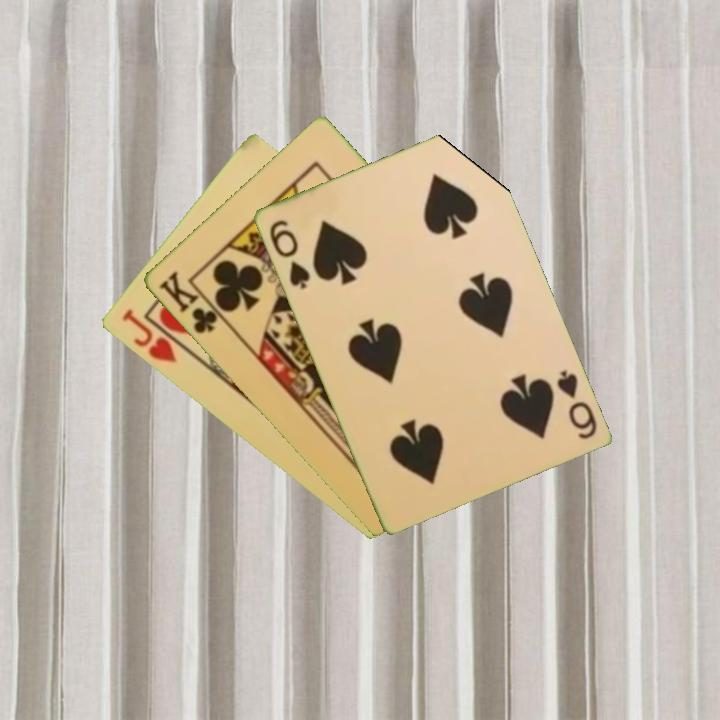6s: (265, 216, 313, 292), (552, 366, 600, 442)
Jh: (117, 305, 179, 366)
Kc: (154, 268, 229, 337)
